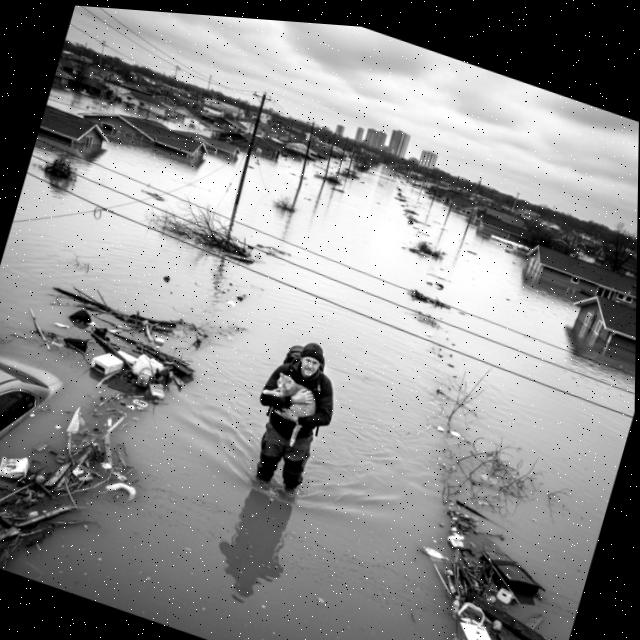cat: (257, 364, 333, 458)
civilian: (241, 325, 353, 500)
